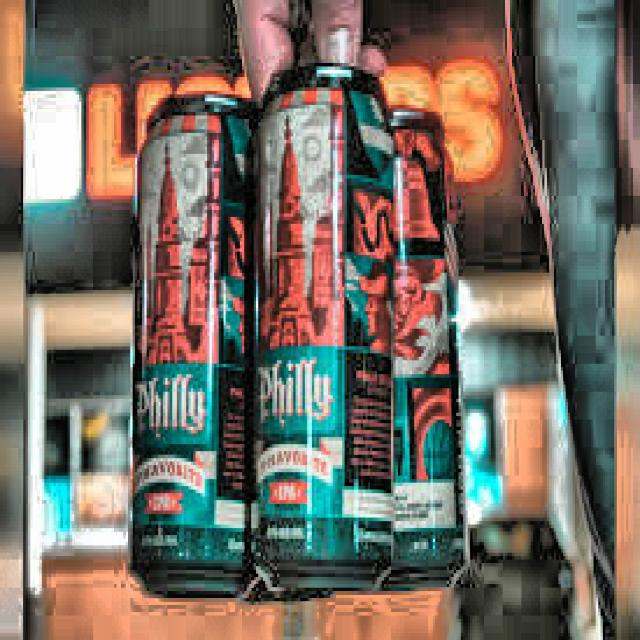can: (248, 60, 400, 592), (130, 86, 268, 604), (383, 106, 473, 593)
